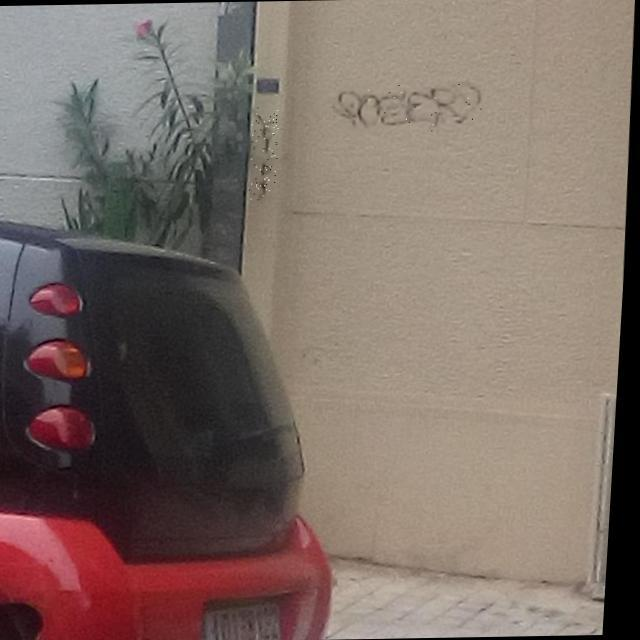-: (336, 81, 484, 135), (249, 107, 282, 201)
